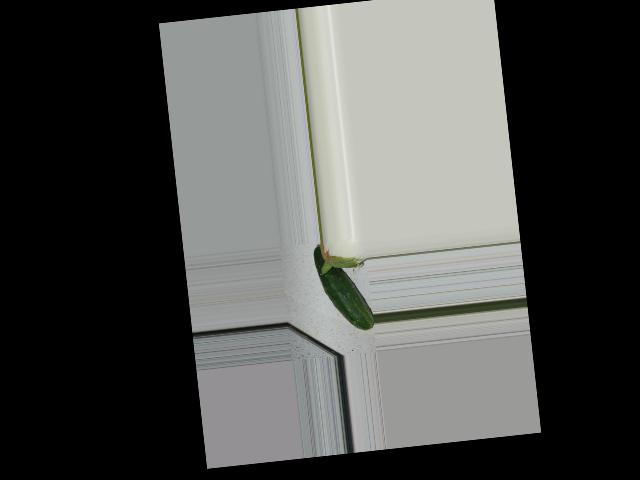cucumber: (313, 239, 375, 335)
